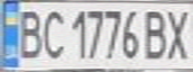1: (66, 6, 87, 60)
6: (121, 6, 145, 61)
7: (84, 6, 106, 60), (103, 6, 124, 60)
B: (139, 7, 172, 61), (12, 6, 45, 60)
C: (39, 6, 66, 60)
X: (163, 6, 193, 61)
